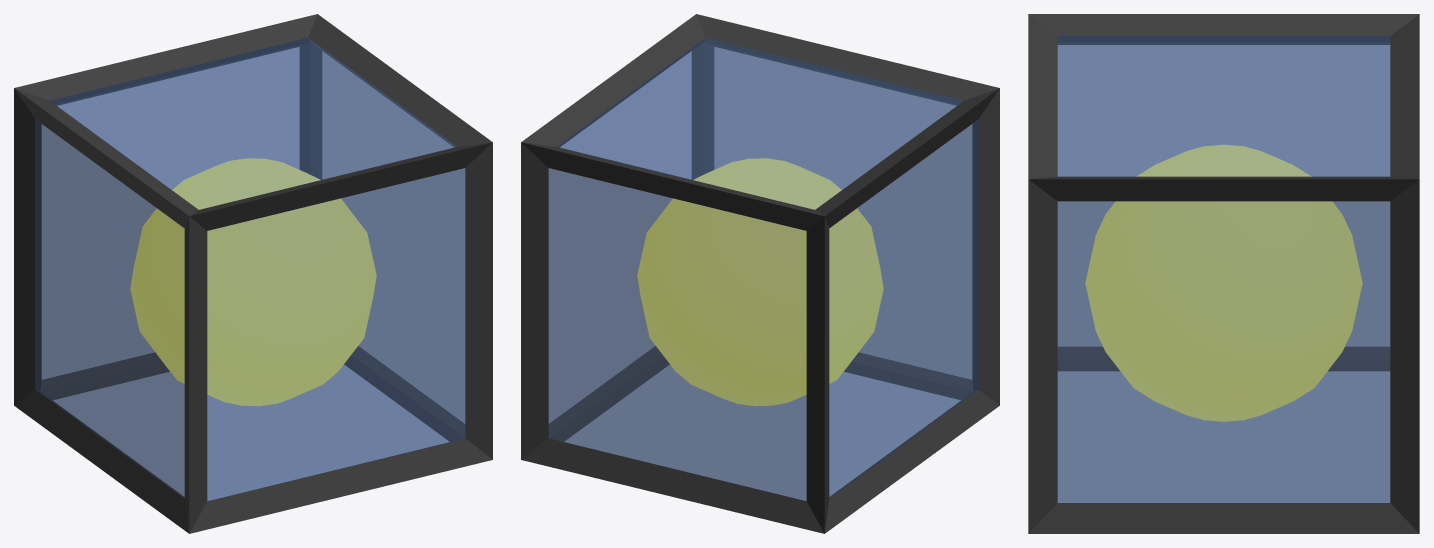
The model's file is Ammo.fbx.
3 renders of one model, left to right at view 1: azimuth 30°, elevation 25°; view 2: azimuth 150°, elevation 25°; view 3: azimuth 270°, elevation 25°, orthographic. The views are drawn at different scales.
Visible parts, largest first — view 1: Container, Projectile; view 2: Container, Projectile; view 3: Container, Projectile.
Part boxes in pixels (bbox=[...]): Container: bbox=[14, 14, 492, 533]; Projectile: bbox=[130, 158, 376, 406]; Container: bbox=[521, 14, 999, 533]; Projectile: bbox=[637, 158, 883, 406]; Container: bbox=[1028, 14, 1419, 533]; Projectile: bbox=[1085, 144, 1362, 421].
Size of what is drawn, in the model's own units: 42.31 by 42.31 by 42.31.
